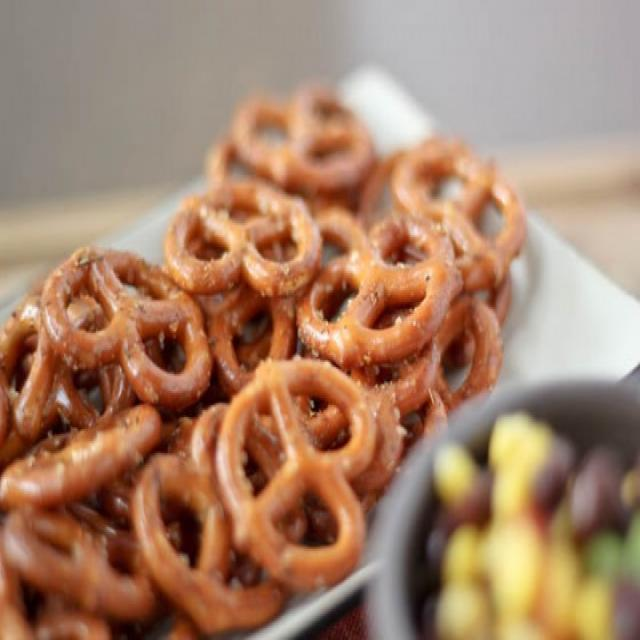Salatini: (1, 105, 509, 637)
